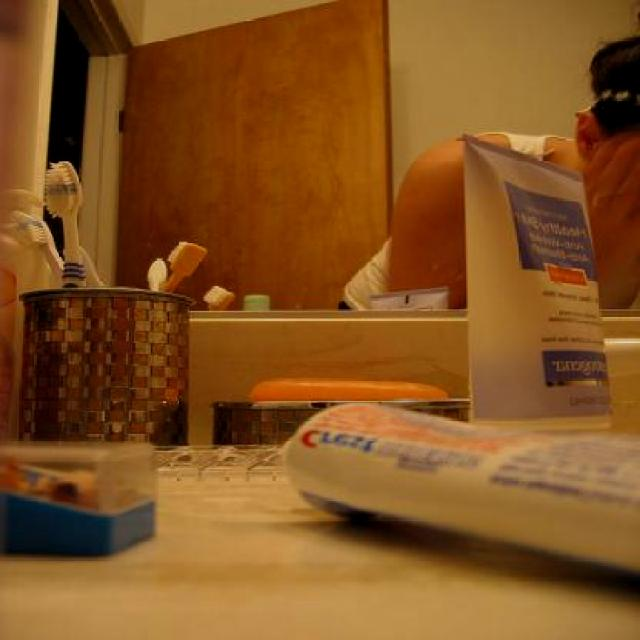Person: (338, 30, 640, 308)
